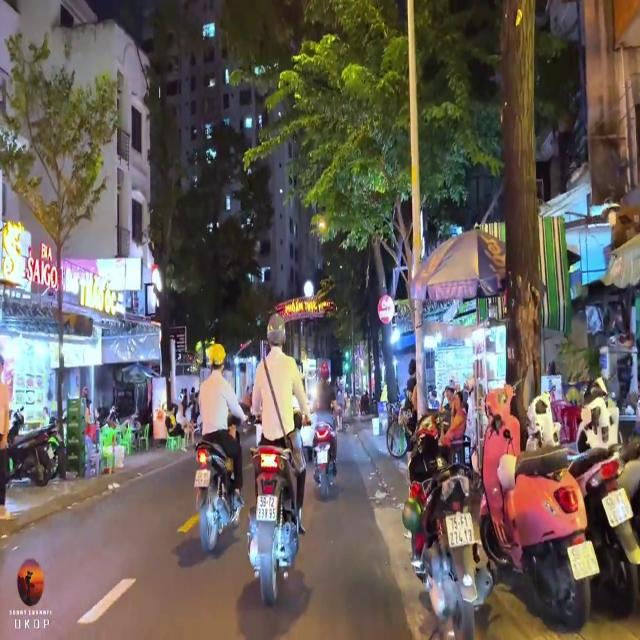bien_trang: (564, 536, 598, 582), (604, 488, 631, 527), (447, 514, 474, 550), (257, 490, 277, 524)
